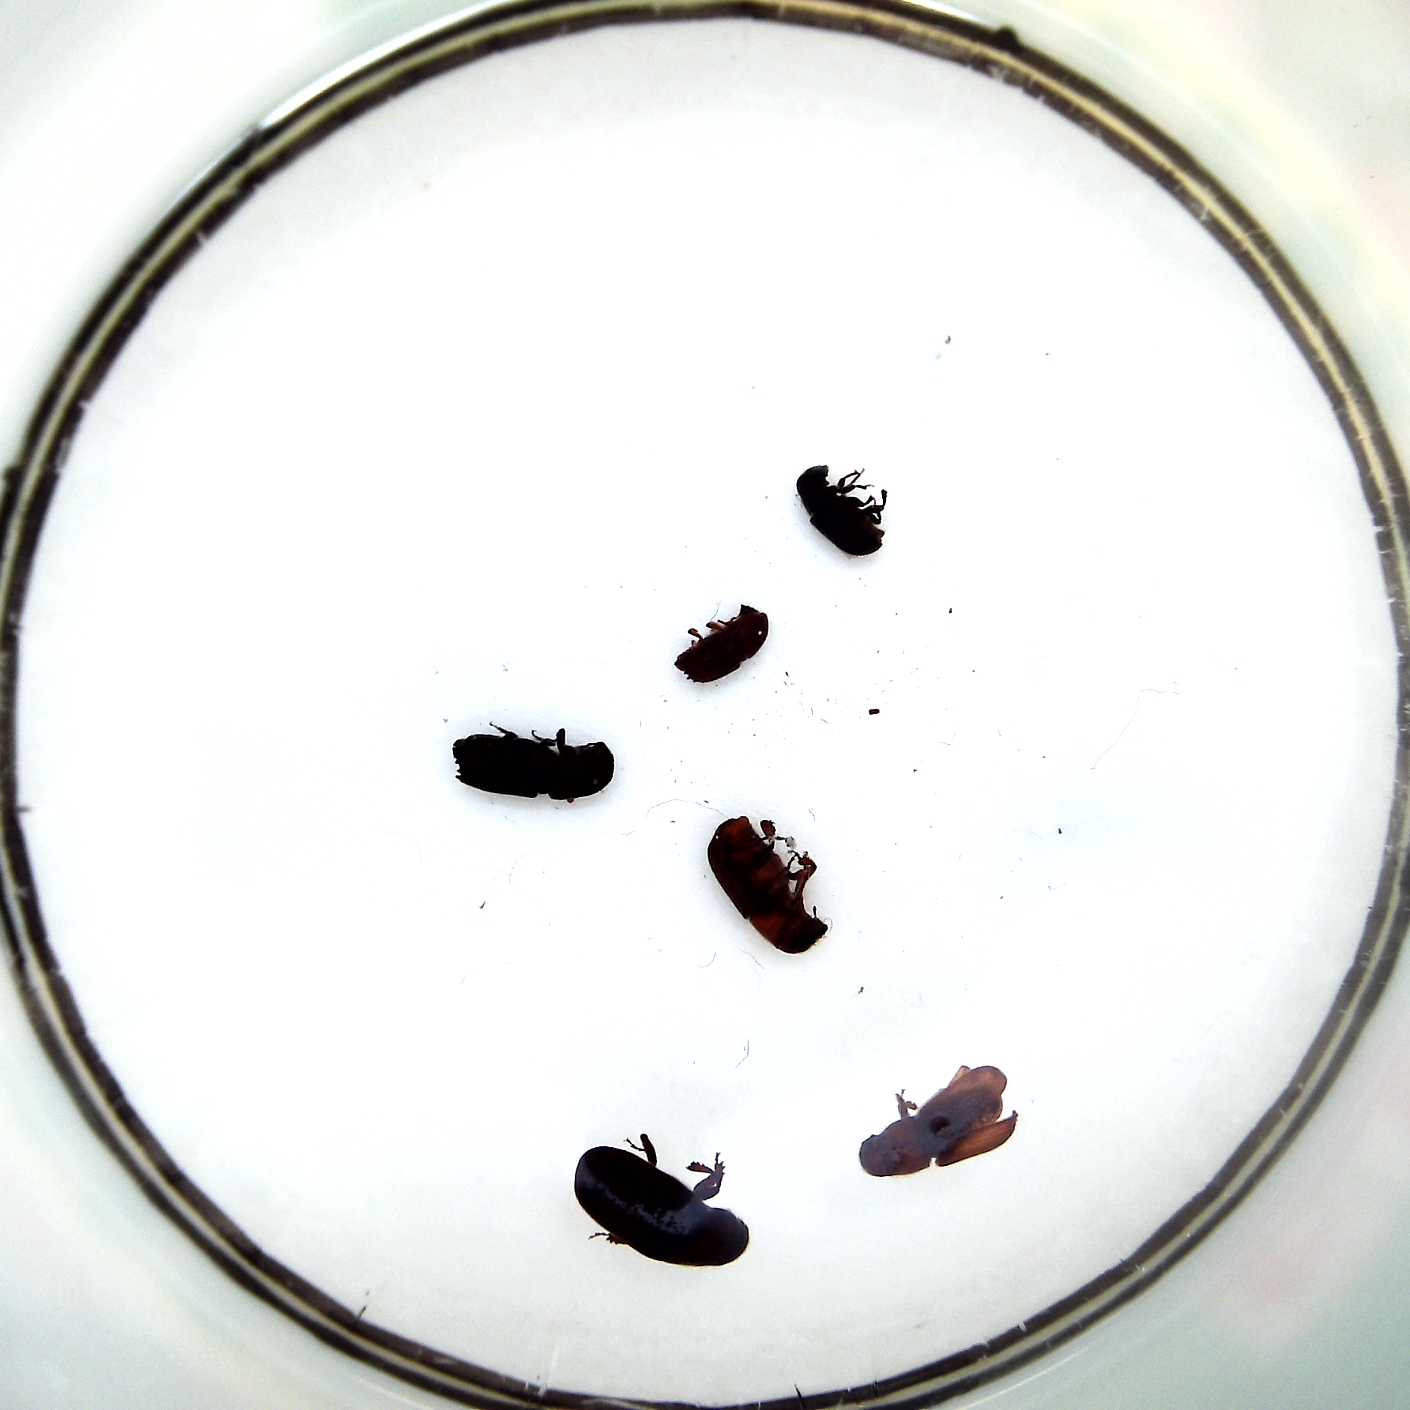Boerner: (453, 730, 613, 798)
Leconte: (572, 1147, 746, 1267), (859, 1065, 1008, 1178), (708, 816, 828, 953)
armandi: (798, 465, 884, 557)
linnaeus: (674, 606, 767, 683)
